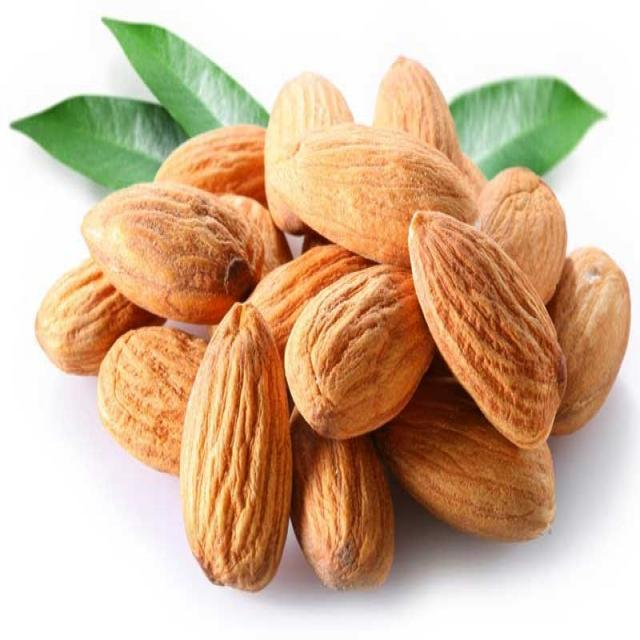almond: (406, 208, 567, 449), (179, 303, 294, 590), (276, 128, 479, 260), (79, 181, 257, 328), (386, 389, 557, 538), (284, 261, 423, 439), (97, 323, 215, 480), (293, 428, 398, 598), (547, 244, 632, 439), (34, 260, 173, 378), (264, 70, 355, 233), (469, 165, 567, 302), (373, 54, 462, 166), (153, 119, 265, 198)
